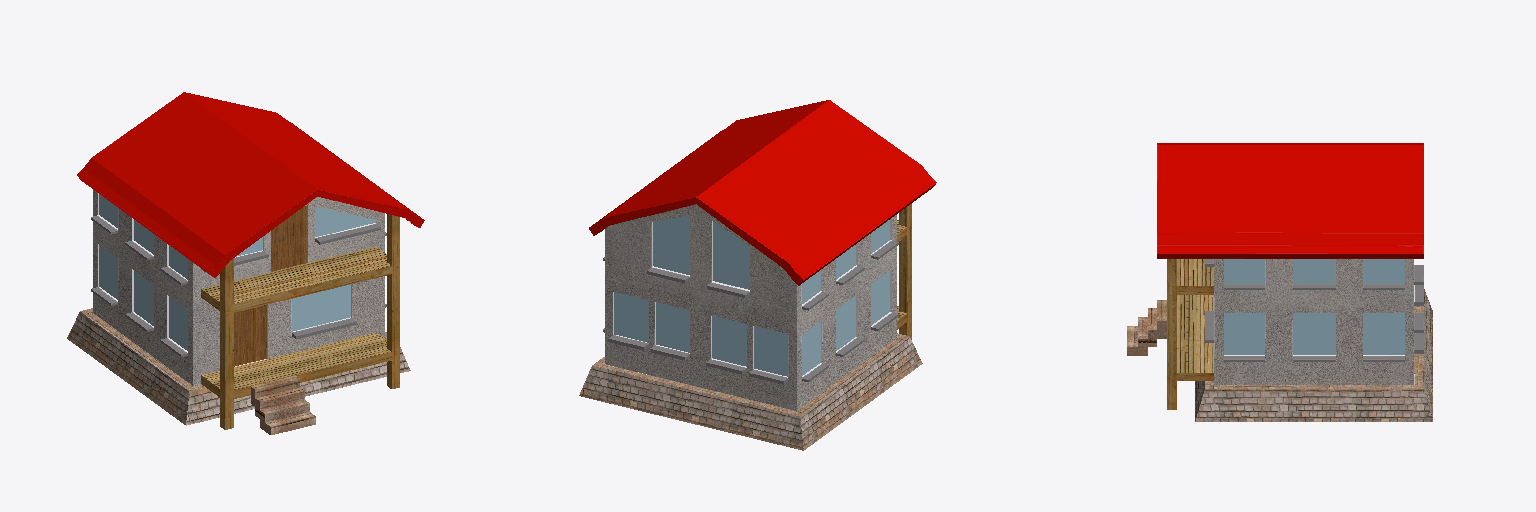
3 renders of one model, left to right at view 1: azimuth 30°, elevation 25°; view 2: azimuth 150°, elevation 25°; view 3: azimuth 270°, elevation 25°, orthographic.
Visible parts, largest first — view 1: Cube.002; view 2: Cube.002; view 3: Cube.002.
Boxes of the visible parts, x1=… form: Cube.002: x1=67, y1=92, x2=424, y2=434; Cube.002: x1=579, y1=100, x2=936, y2=450; Cube.002: x1=1127, y1=143, x2=1432, y2=421.
Size of the model in its own units: 54.52 by 51.6 by 64.4.
Materials: 1 (1 with a texture image).